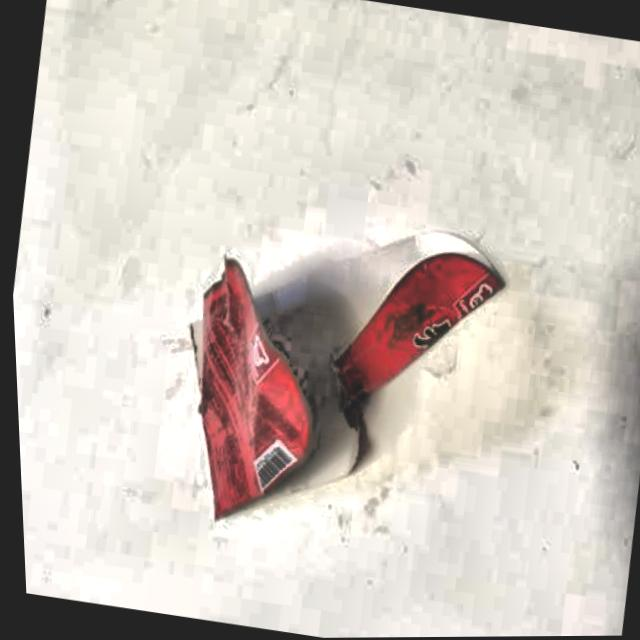Paper: (128, 166, 546, 575)
